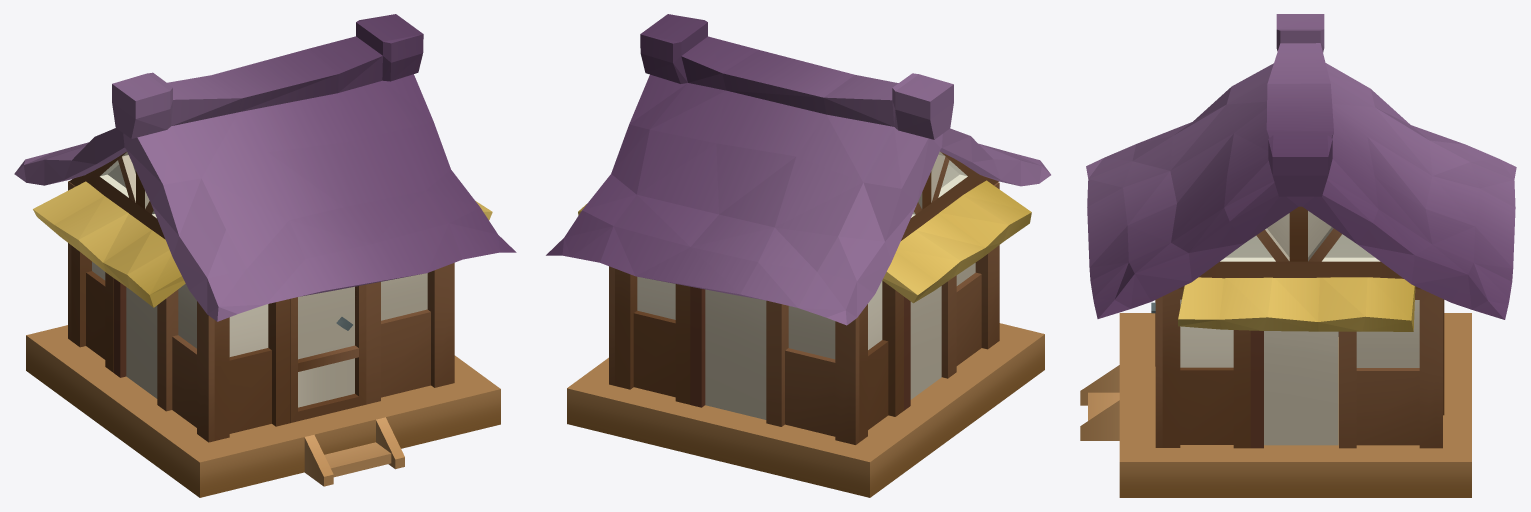
Rendered from House_3x3.fbx.
3 renders of one model, left to right at view 1: azimuth 30°, elevation 25°; view 2: azimuth 150°, elevation 25°; view 3: azimuth 270°, elevation 25°, orthographic.
Visible parts, largest first — view 1: House_3x3_RoofOnly.001, House_3x3_Base.001, House_Wall_Corner.013, House_Wall_Corner.016, House_Door_1m.001, House_3x3_LowerRoof.002, House_Wall_Corner.014, House_Wall_1m.010, House_3x3_Gable.001; view 2: House_3x3_RoofOnly.001, House_3x3_Base.001, House_Wall_Corner.014, House_Wall_Corner.015, House_Wall_1m.007, House_3x3_LowerRoof.002, House_Wall_Corner.013, House_Wall_1m.010, House_3x3_Gable.001; view 3: House_3x3_RoofOnly.001, House_3x3_Base.001, House_Wall_Corner.015, House_3x3_LowerRoof.001, House_Wall_Corner.016, House_Wall_1m.009, House_3x3_Gable.002.
Part boxes in pixels (x1,y1,x2,y2): House_3x3_RoofOnly.001: (14,14,516,321); House_3x3_Base.001: (26,325,500,497); House_Wall_Corner.013: (157,283,290,442); House_Wall_Corner.016: (366,263,454,404); House_Door_1m.001: (290,284,366,422); House_3x3_LowerRoof.002: (33,181,185,307); House_Wall_Corner.014: (68,181,113,372); House_Wall_1m.010: (114,278,157,398); House_3x3_Gable.001: (69,152,165,239); House_3x3_RoofOnly.001: (546,14,1050,325); House_3x3_Base.001: (567,323,1044,497); House_Wall_Corner.014: (766,280,903,444); House_Wall_Corner.015: (609,266,690,404); House_Wall_1m.007: (690,286,766,419); House_3x3_LowerRoof.002: (882,180,1031,303); House_Wall_Corner.013: (941,182,999,378); House_Wall_1m.010: (904,286,941,410); House_3x3_Gable.001: (901,151,998,240); House_3x3_RoofOnly.001: (1086,14,1516,319); House_3x3_Base.001: (1080,313,1471,497); House_Wall_Corner.015: (1339,289,1444,448); House_3x3_LowerRoof.001: (1178,277,1415,331); House_Wall_Corner.016: (1155,289,1250,448); House_Wall_1m.009: (1250,330,1338,448); House_3x3_Gable.002: (1178,206,1421,289).
Bounding box in the file's own units: 4.55 × 4.31 × 4.95.
Materials: 1 (1 with a texture image).
